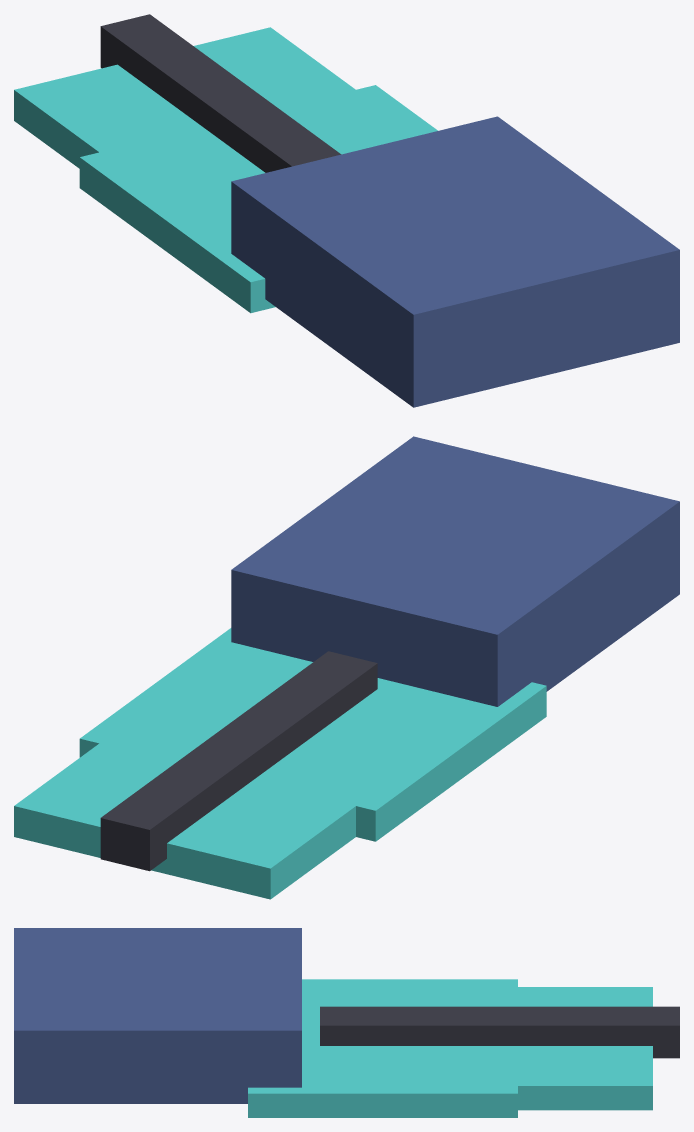
The model's file is mergulhador_pe.glb.
3 views of the same model, one above another, from view 1: azimuth 30°, elevation 25°; view 2: azimuth 150°, elevation 25°; view 3: azimuth 270°, elevation 25° (orthographic). The views are drawn at different scales.
Visible parts, largest first — view 1: mergulhador_pe; view 2: mergulhador_pe; view 3: mergulhador_pe.
Boxes of the visible parts, x1,y1,x2,y2 form: mergulhador_pe: (14, 14, 679, 407); mergulhador_pe: (14, 436, 679, 899); mergulhador_pe: (14, 928, 679, 1117).
Size of the model in its own units: 0.3 by 0.1 by 0.74.
